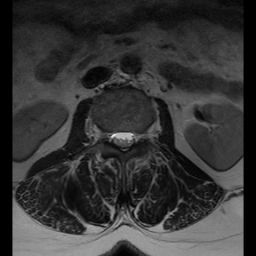CCS_normal: (119, 121, 128, 158)
LFS_normal: (136, 124, 145, 145)
LLS_normal: (128, 123, 136, 152)
RFS_normal: (103, 123, 111, 146)
RLS_normal: (111, 123, 119, 151)
